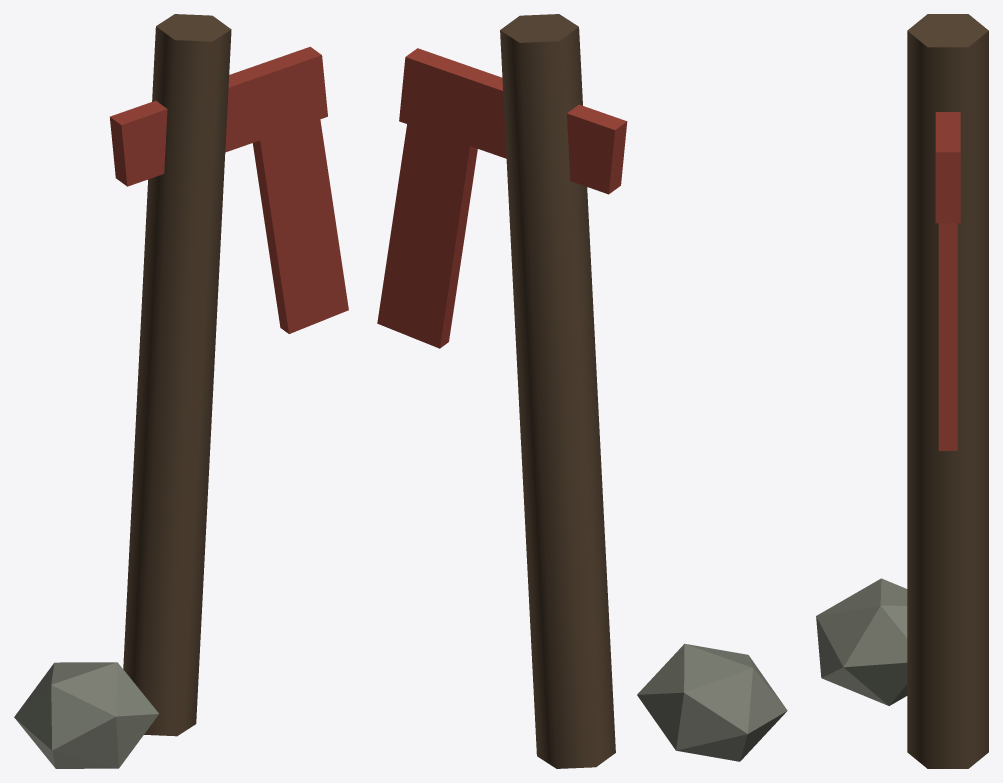
Rendered from cloth-marker.glb.
3 views of the same model, side by side, from view 1: azimuth 30°, elevation 25°; view 2: azimuth 150°, elevation 25°; view 3: azimuth 270°, elevation 25° (orthographic). The views are drawn at different scales.
Parts seen in each view (by area): view 1: cloth-marker; view 2: cloth-marker; view 3: cloth-marker.
Part boxes in pixels (x1,y1,x2,y2): cloth-marker: (14, 14, 348, 768); cloth-marker: (377, 14, 787, 768); cloth-marker: (816, 14, 988, 768).
Bounding box in the file's own units: 0.675 × 1.31 × 0.2752.
